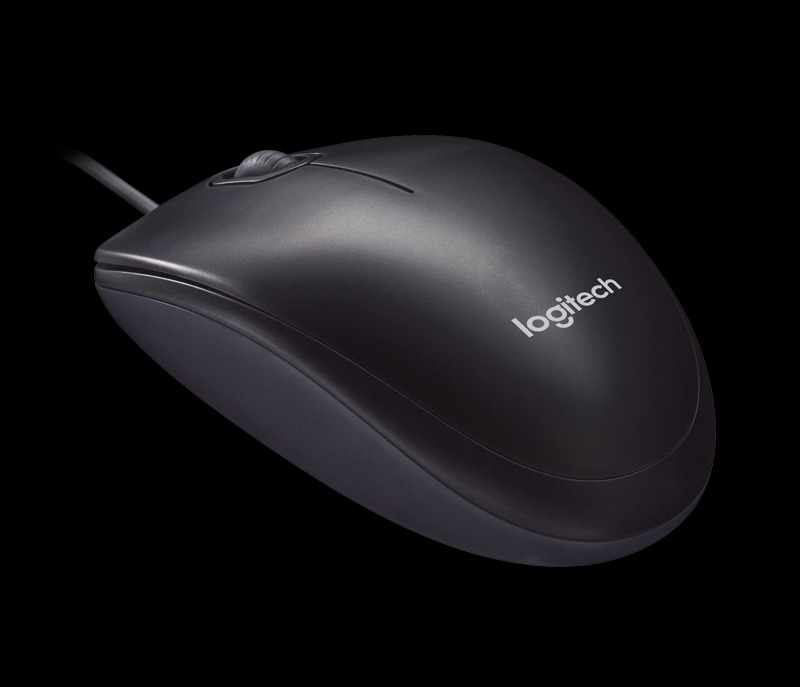mouse: (98, 120, 720, 569)
